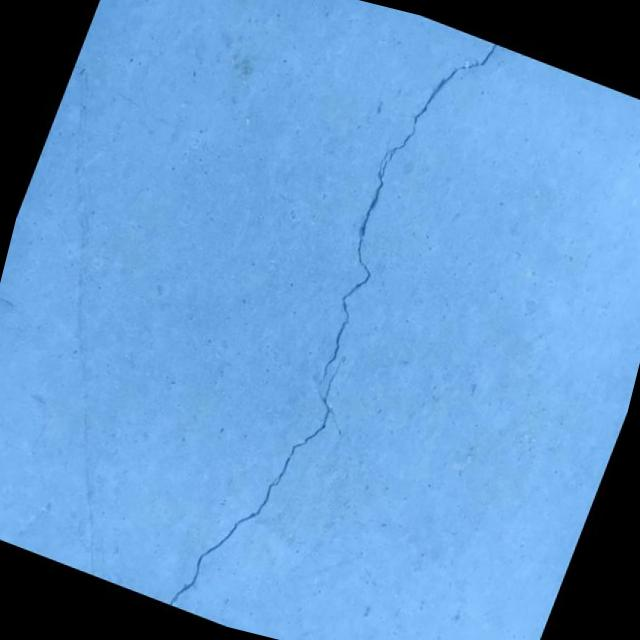crack: (167, 0, 500, 640)
